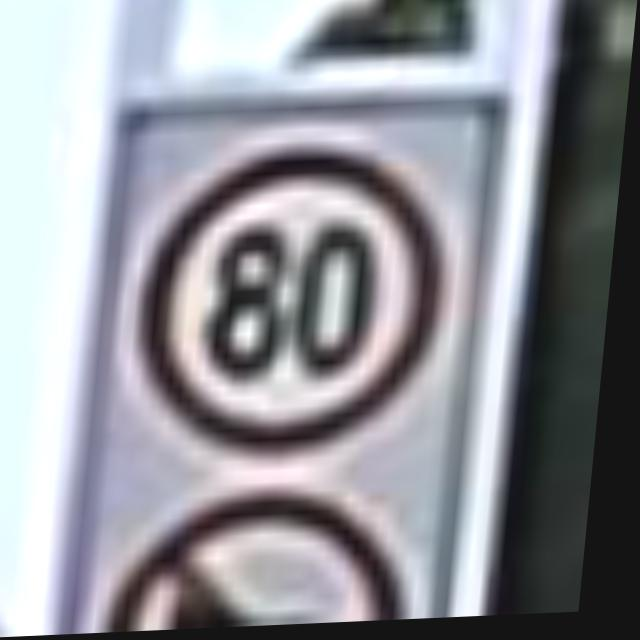limit80: (136, 135, 471, 464)
